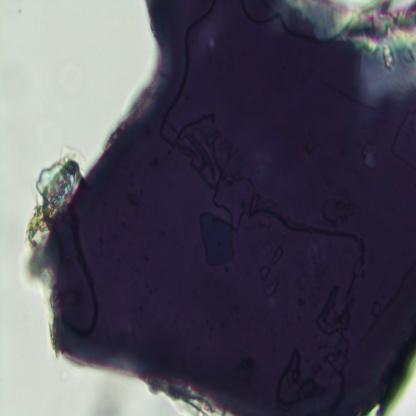Fragment: (25, 0, 416, 416)
